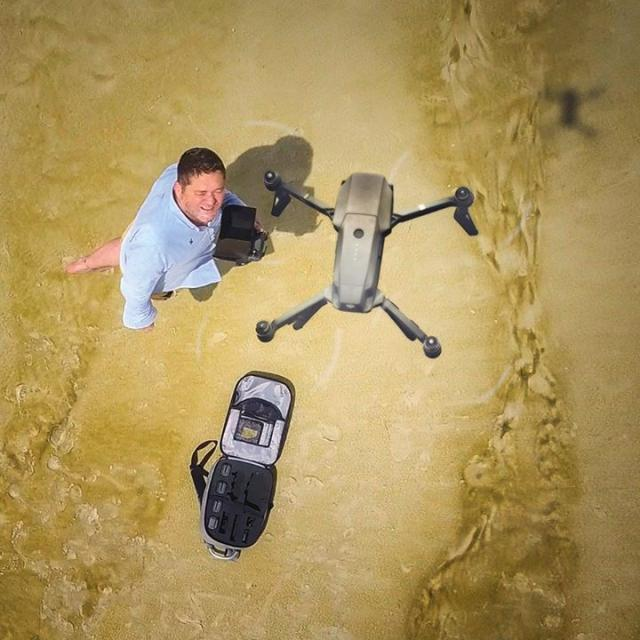adult: (61, 144, 245, 329)
